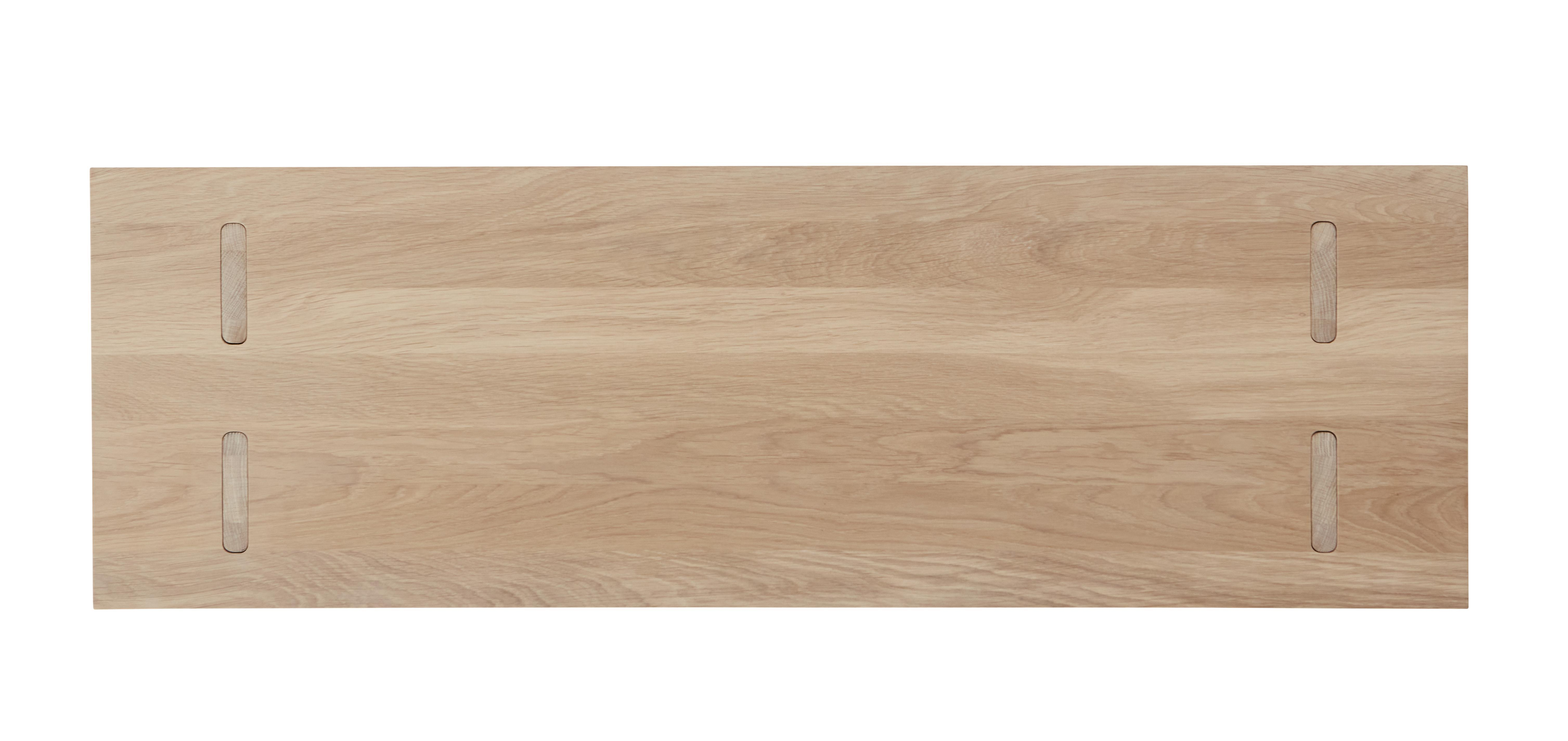gloved_hand: (63, 138, 1499, 639)
